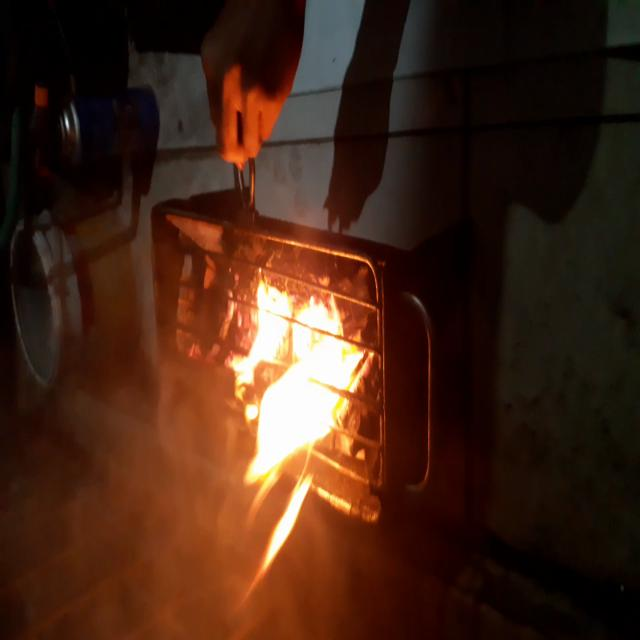Fire: (245, 286, 378, 606)
